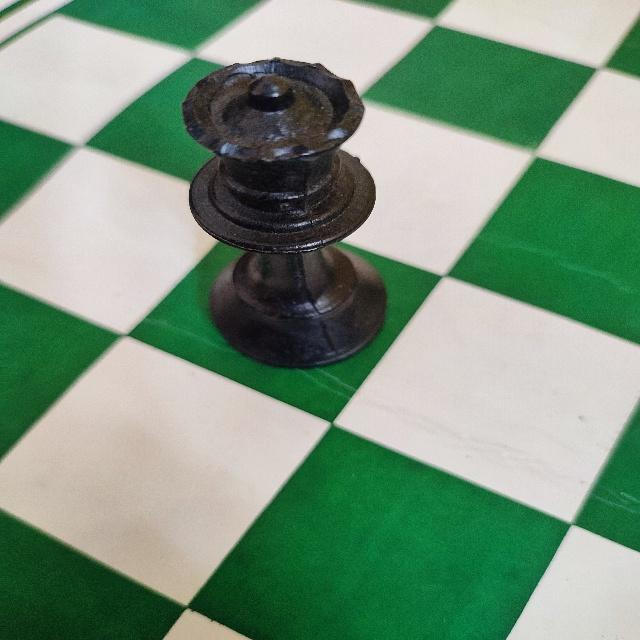Queen: (176, 51, 408, 376)
